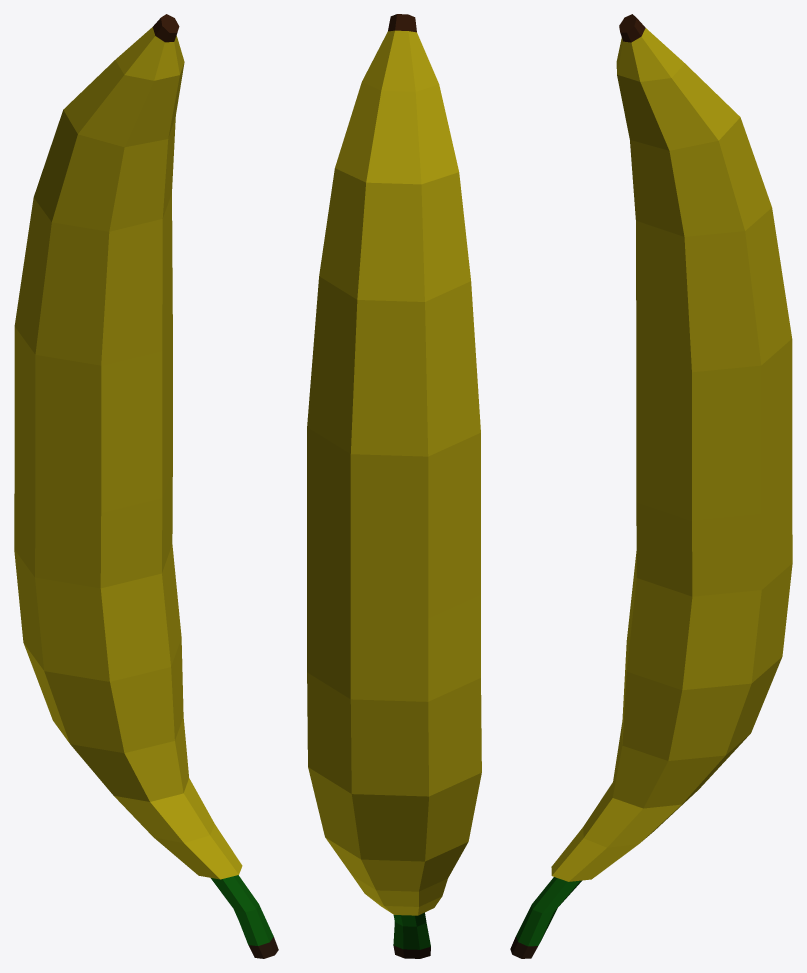
File: banana.obj
The picture shows the model from 3 angles, left to right: view 1: azimuth 30°, elevation 25°; view 2: azimuth 150°, elevation 25°; view 3: azimuth 270°, elevation 25°; orthographic projection. The views are drawn at different scales.
Visible parts, largest first — view 1: banana; view 2: banana; view 3: banana.
Boxes of the visible parts, x1,y1,x2,y2 form: banana: [14, 14, 278, 958]; banana: [307, 14, 481, 958]; banana: [510, 14, 792, 958].
Bounding box in the file's own units: 1.73 × 9.43 × 2.64.
